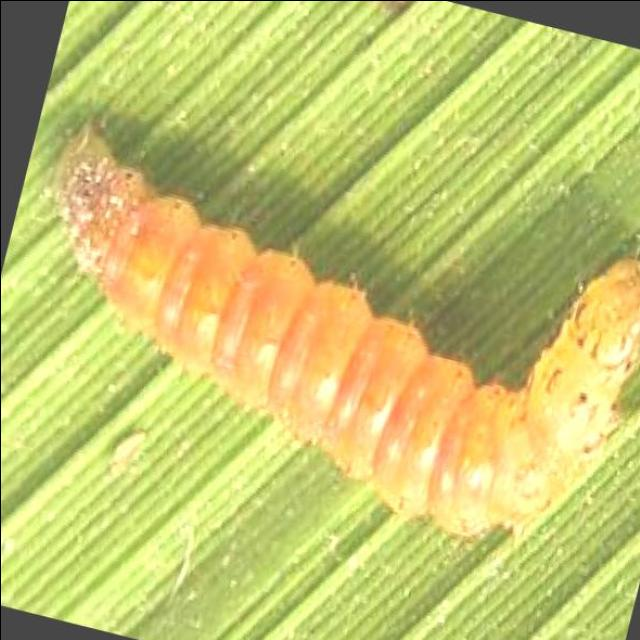leaf folder: (57, 129, 640, 536)
